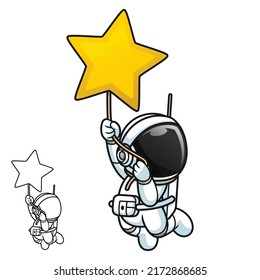star: (64, 7, 170, 113), (10, 149, 54, 194)
